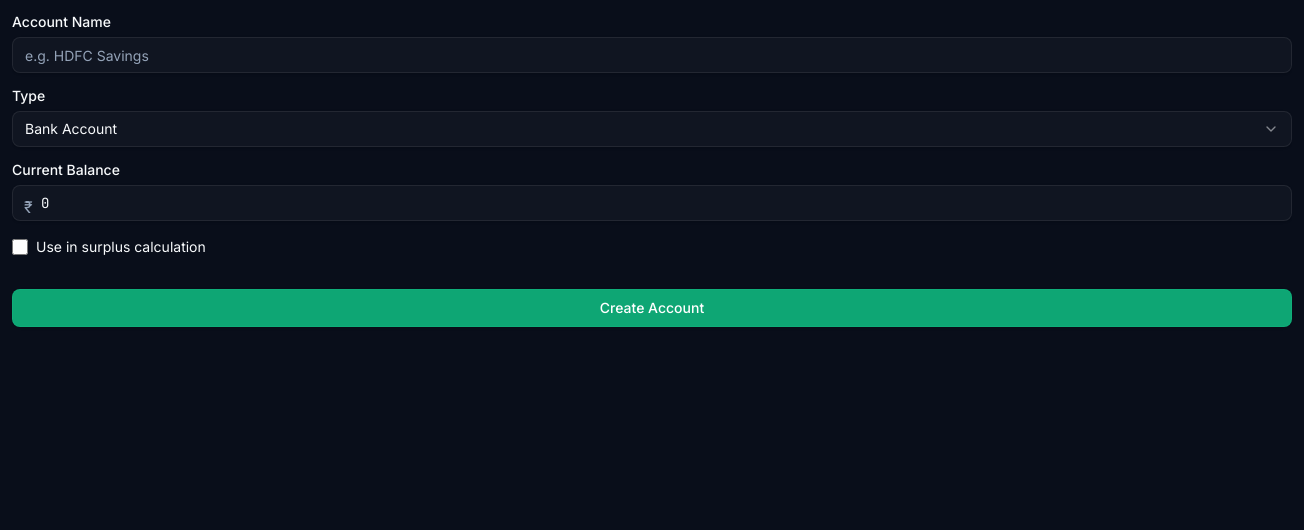
Test case: AccountCreateFormFields - Credit Card type › renders CC-specific fields when CC type selected
Click the dropdown: (71, 128) [12,111,1292,147]
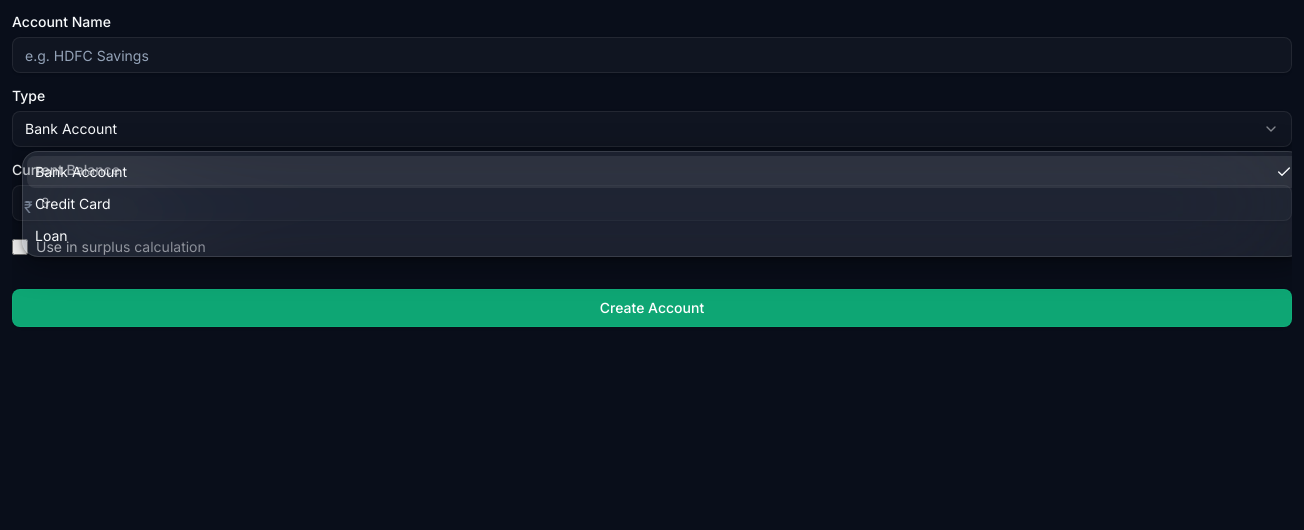
Click the option "Credit Card": (73, 204) [35,195,111,212]
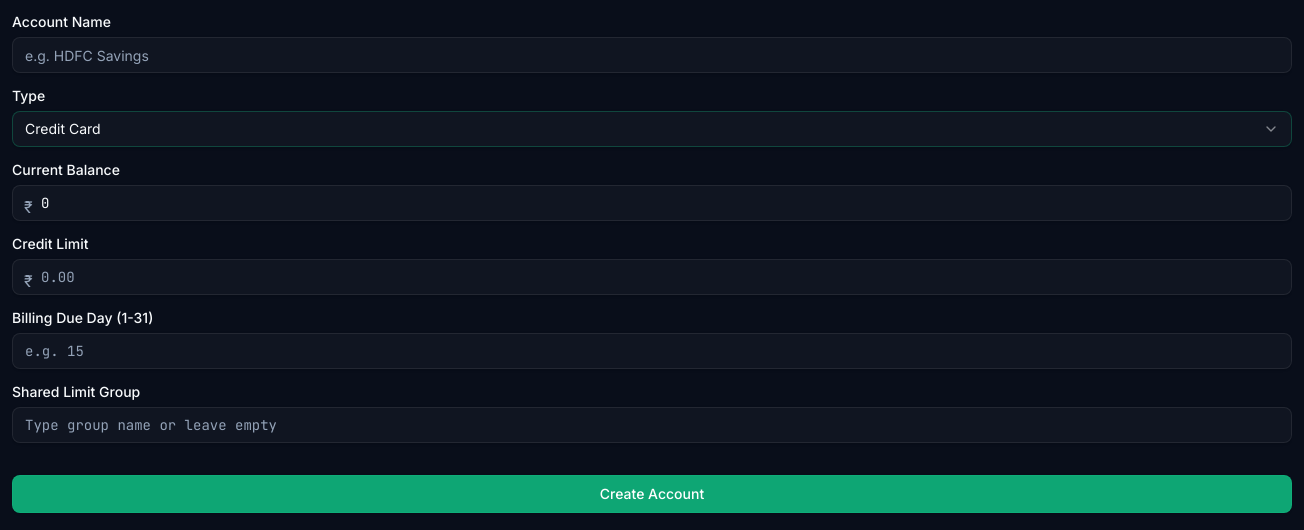
Check: the text "Credit Limit" is shown, box [12,235,88,252]
Check: the text "Billing Due Day (1-31)" is shown, box [12,309,153,326]
Check: the text "Shared Limit Group" is shown, box [12,383,140,400]
